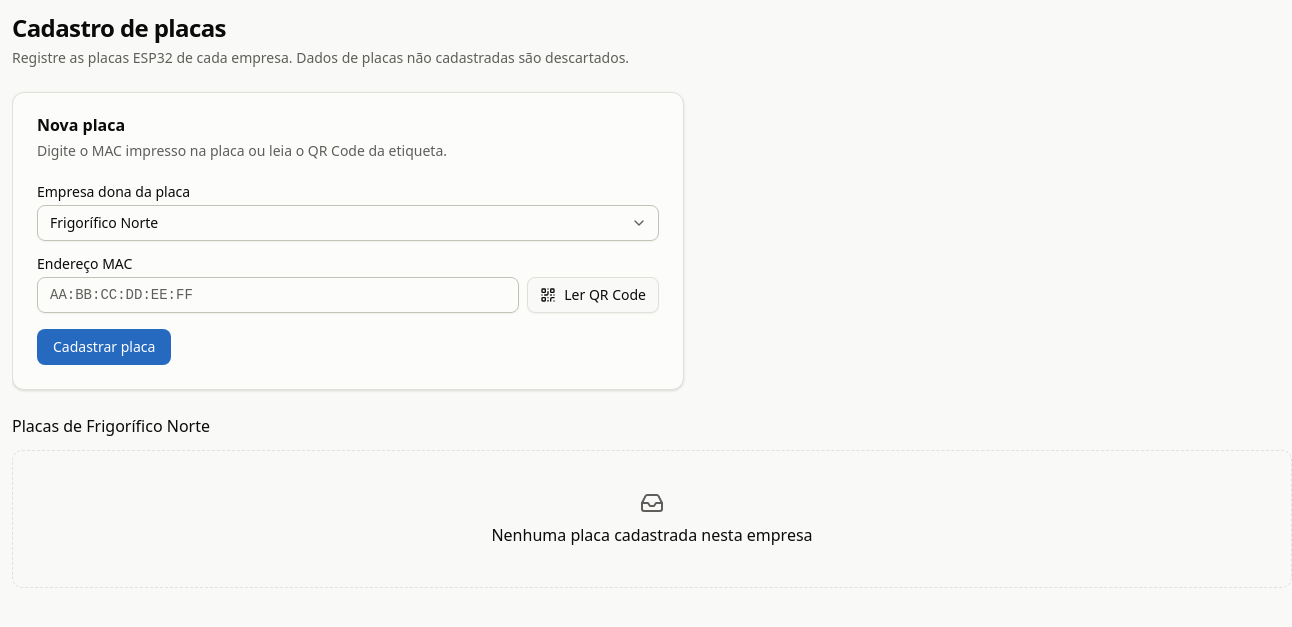
RegisterDevicePage › MAC inválido não chama a API
In the field labelled "Endereço MAC": (278,295) x1=37 y1=277 x2=519 y2=313, type "abc"
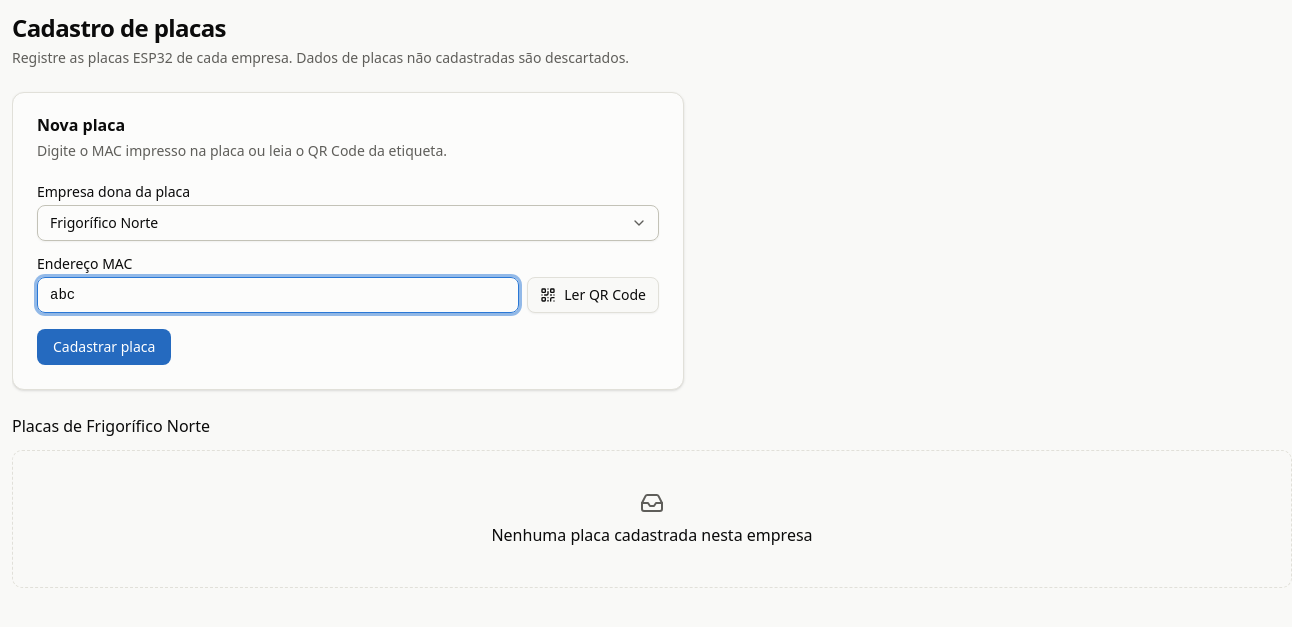
Click the button "Cadastrar placa": (104,347) x1=37 y1=329 x2=171 y2=365
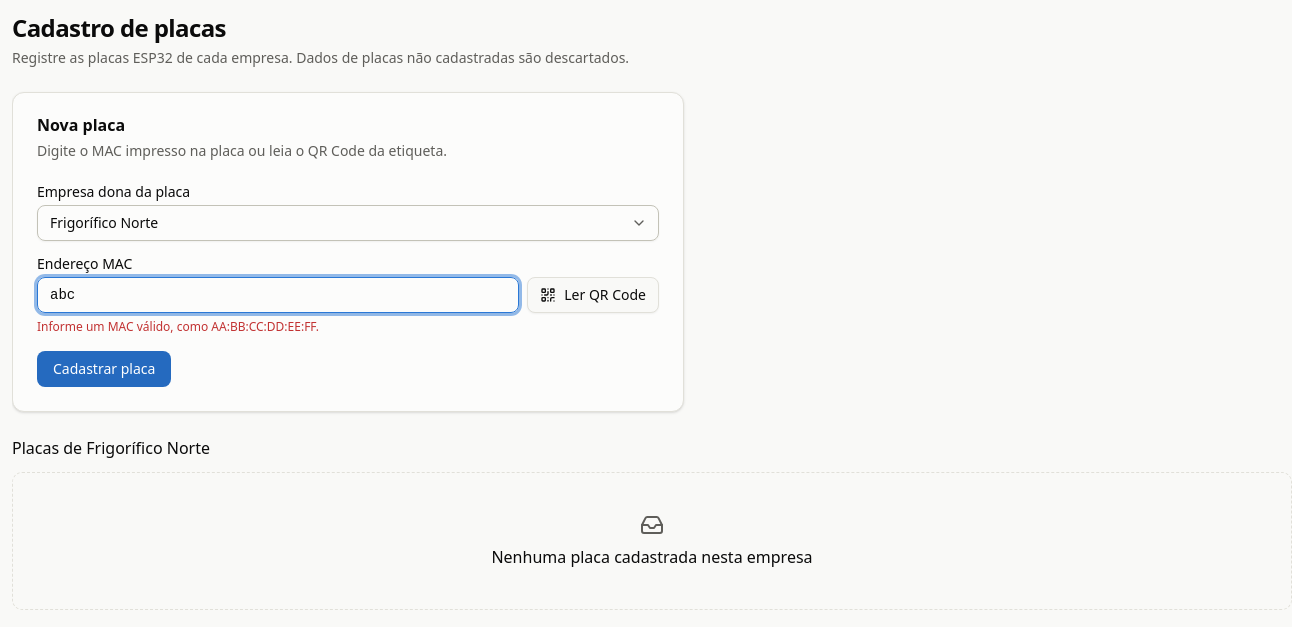
expect the text "Informe um MAC válido, como AA:BB:CC:DD:EE:FF." is shown: met, box x1=37 y1=318 x2=319 y2=335
